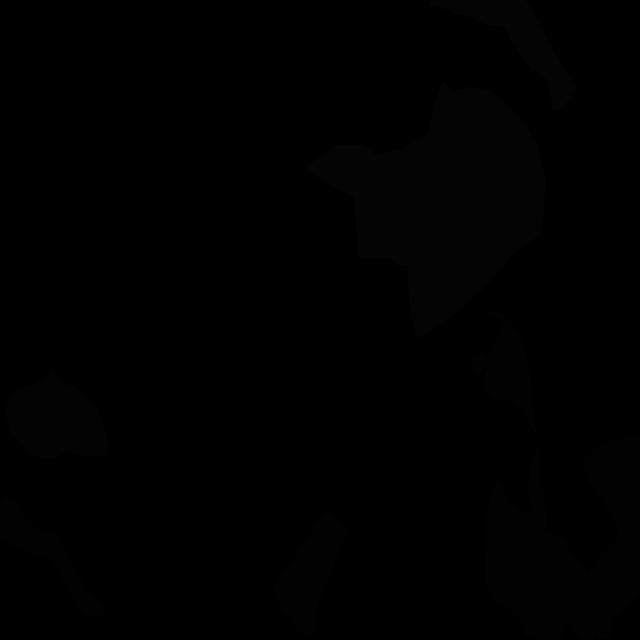cardboard: (484, 447, 613, 640), (0, 499, 106, 619), (584, 432, 640, 624), (274, 511, 349, 636), (471, 310, 538, 437)
metal: (6, 371, 108, 458)
soft_plastic: (304, 80, 546, 338), (428, 0, 576, 111)
